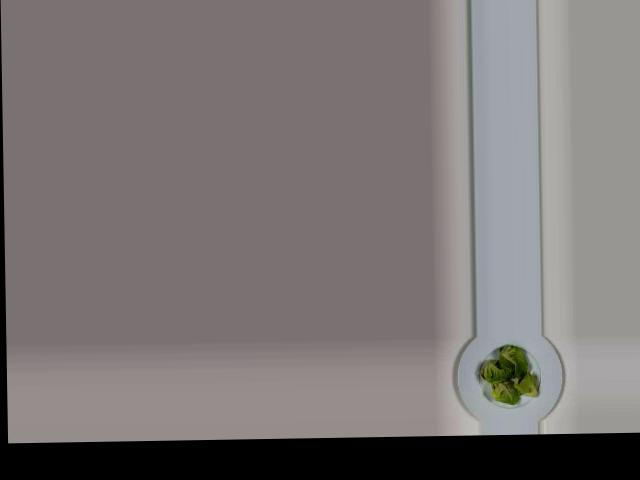lettuce: (478, 339, 540, 404)
